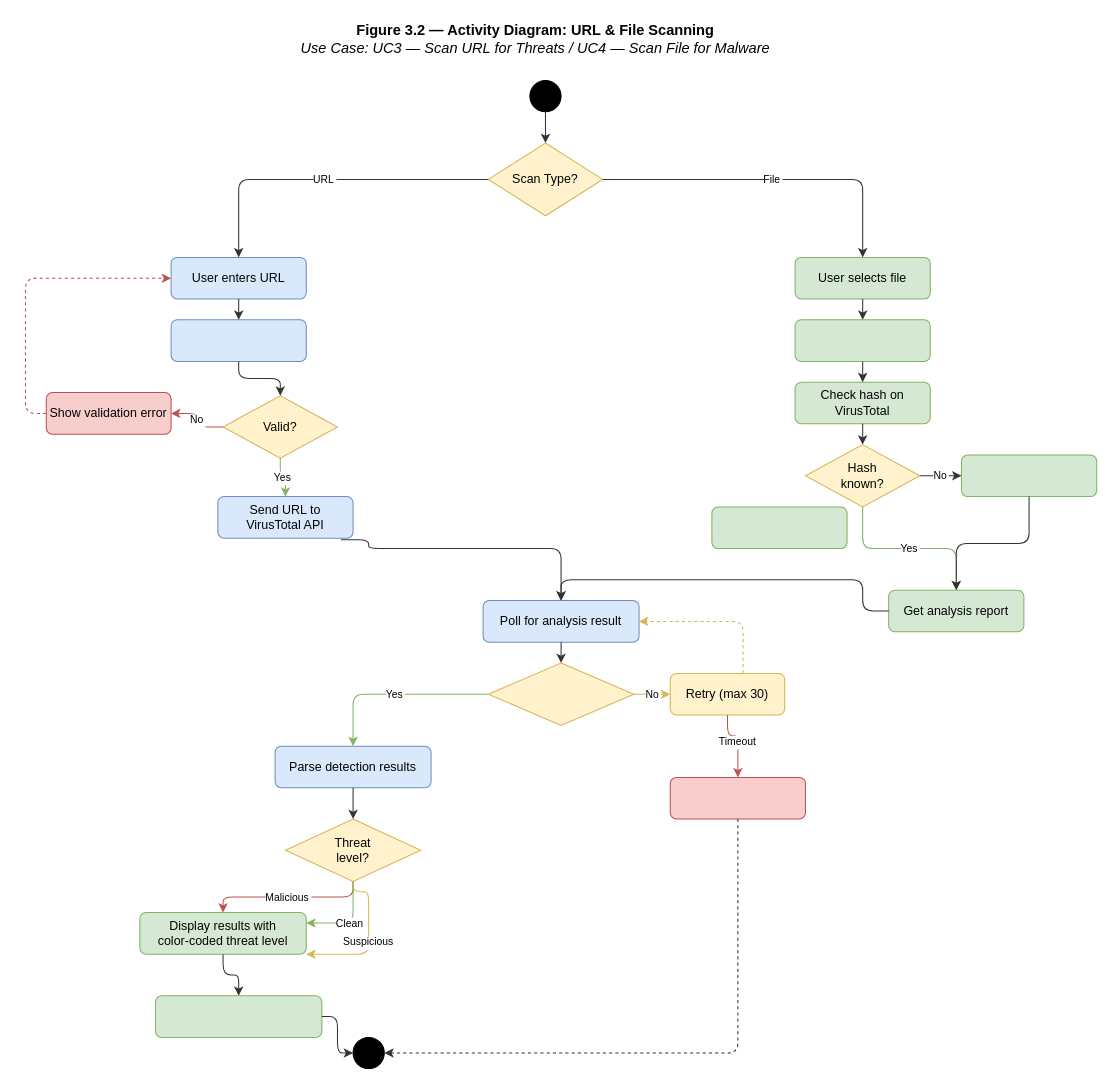
This 1115x1087 diagram has some shape labels left out. The box of each missing label's shape, as (x1, y1, x2, y2) in pixels:
Analysis complete?: (487, 662, 634, 725)
Award XP & update daily tasks: (154, 995, 322, 1037)
Compute SHA-256 hash: (794, 319, 930, 361)
Send file to VirusTotal API: (711, 506, 847, 549)
Show timeout error: (669, 776, 805, 819)
Upload file to VirusTotal: (960, 454, 1097, 497)
Validate URL format: (170, 319, 306, 361)
